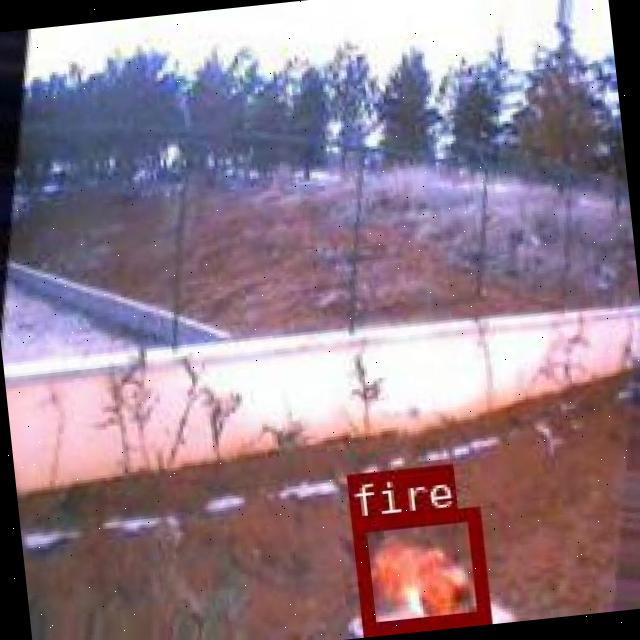fire: (349, 507, 486, 632)
